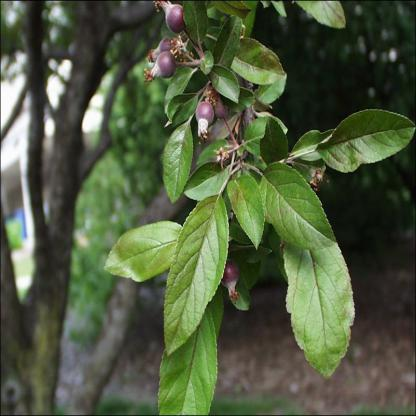apple leaf: (286, 198, 353, 390), (158, 188, 229, 357), (316, 95, 415, 182), (252, 153, 336, 255), (96, 216, 191, 281), (229, 26, 292, 108), (161, 115, 195, 215), (244, 113, 295, 176)
